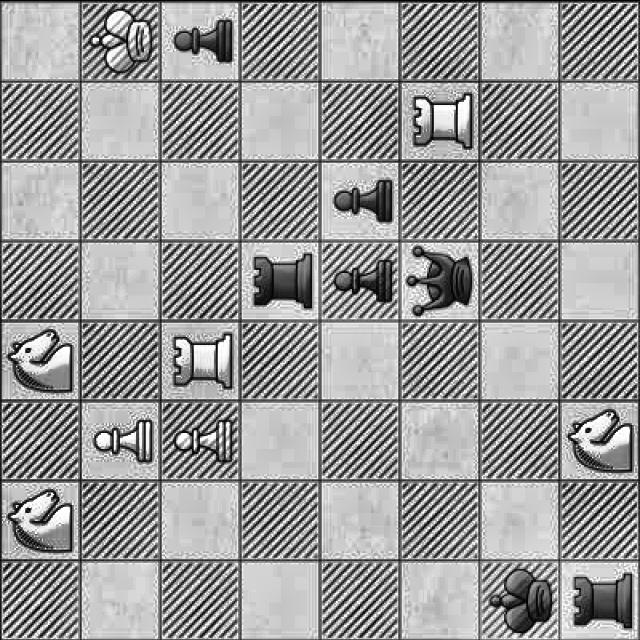black king: (480, 563, 558, 635)
black pawn: (328, 247, 394, 313), (325, 172, 397, 232), (168, 11, 236, 73)
black queen: (404, 242, 479, 318)
black rook: (245, 244, 317, 318), (568, 563, 636, 637)
white king: (72, 2, 160, 78)
white pawn: (87, 406, 159, 469), (170, 420, 236, 466)
white rook: (404, 85, 480, 157), (167, 328, 235, 393)
whiteknight: (560, 403, 640, 478), (5, 323, 75, 398), (7, 489, 78, 556)
